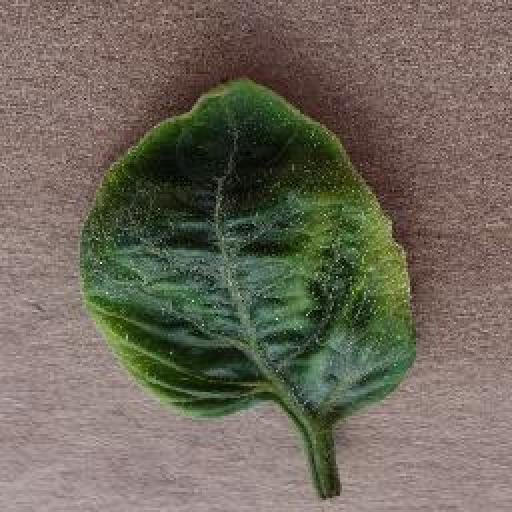disease_tomato: (78, 73, 417, 419)
